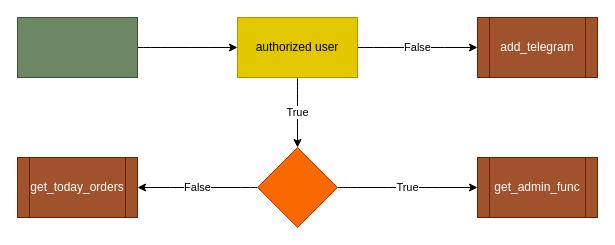
The diagram is 615 pixels wide and 245 high, and some of its shapes have lost their labels. The shapes that lost their labels are listed below. From the top down, each one's centre as x and y in pixels, then its label:
At (77,47): "Start".
At (297,187): "is_admin".
